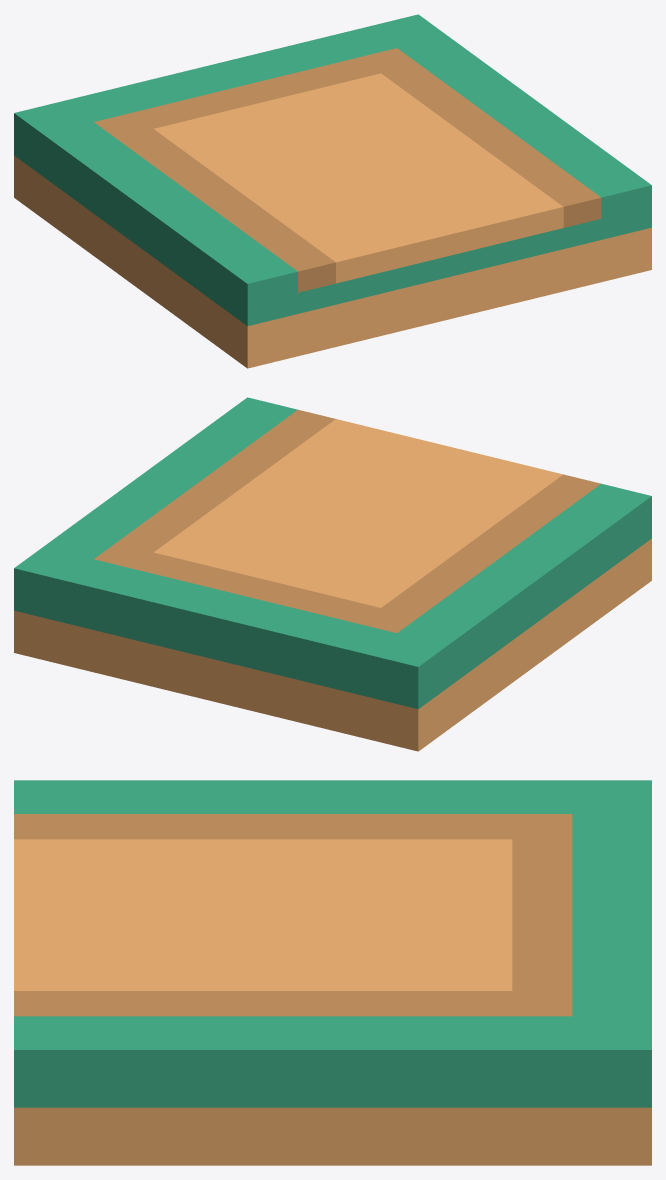
The model's file is tile_end(+).fbx.
3 views of the same model, one above another, from view 1: azimuth 30°, elevation 25°; view 2: azimuth 150°, elevation 25°; view 3: azimuth 270°, elevation 25° (orthographic). The views are drawn at different scales.
Parts seen in each view (by area): view 1: Mesh_2; view 2: Mesh_2; view 3: Mesh_2.
Part boxes in pixels (x1,y1,x2,y2): Mesh_2: (14, 14, 651, 368); Mesh_2: (14, 397, 651, 751); Mesh_2: (14, 780, 651, 1165).
Bounding box in the file's own units: 100 × 20 × 100.
